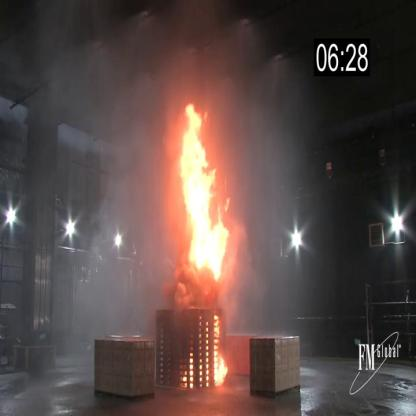fire: (175, 98, 233, 297), (214, 314, 229, 389)
